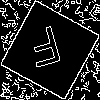F: (25, 25, 67, 77)
